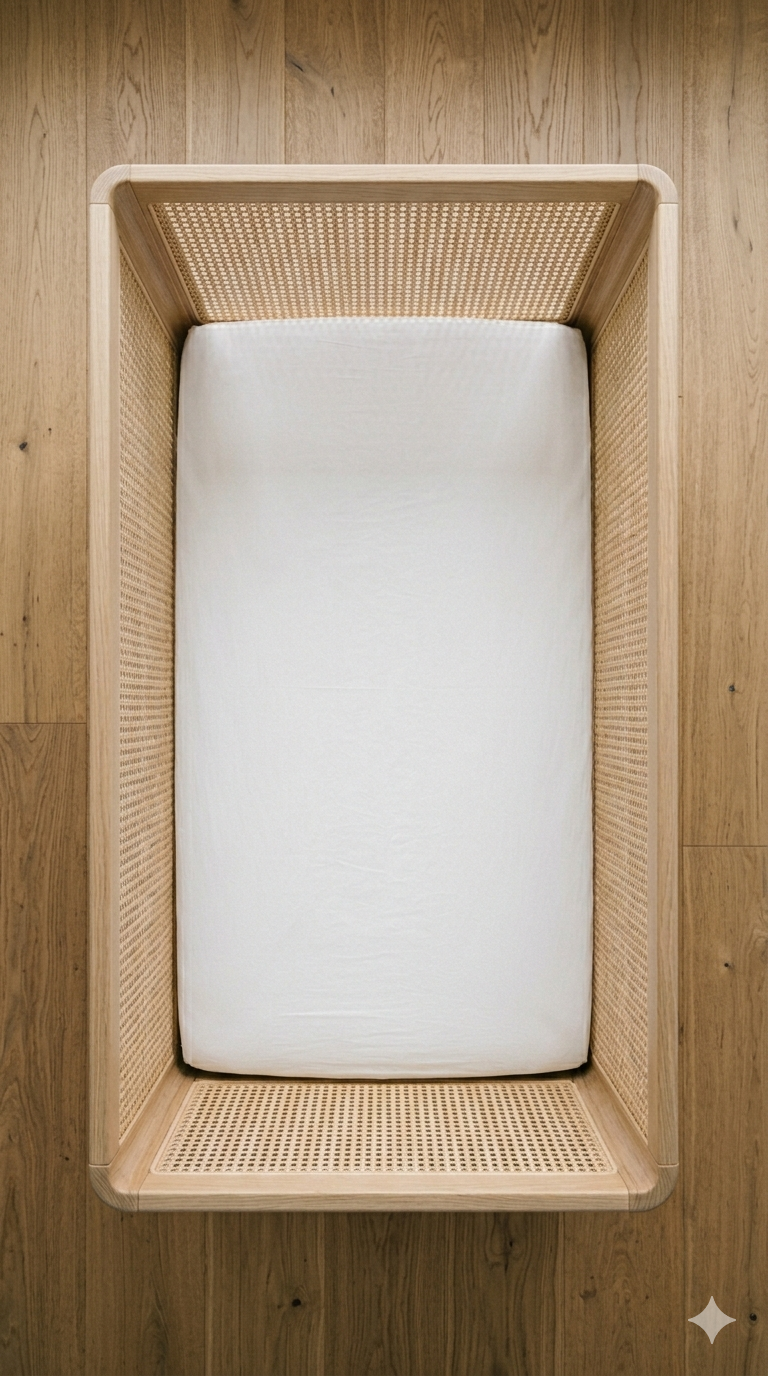crib: (90, 165, 676, 1209)
